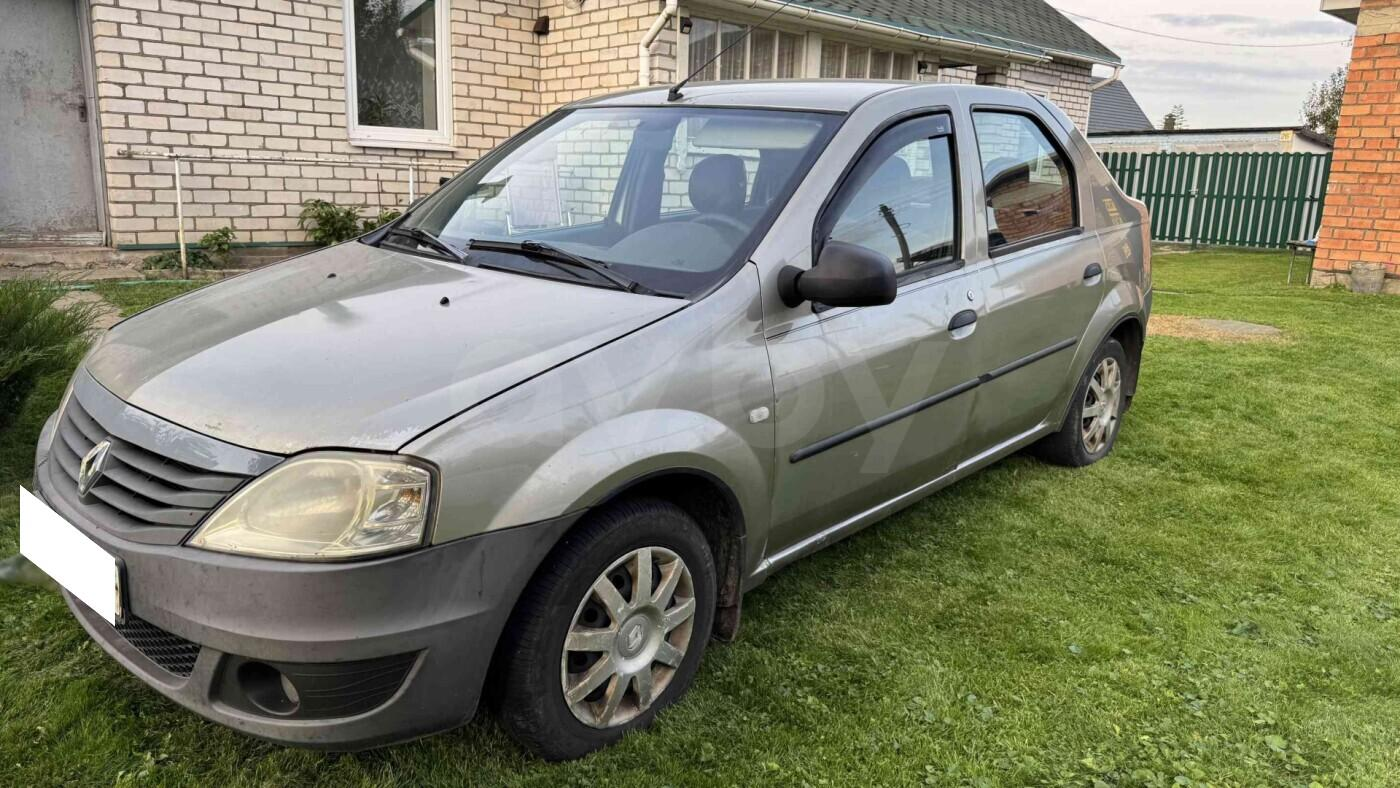Logan_2008-2015: (24, 65, 1161, 761)
